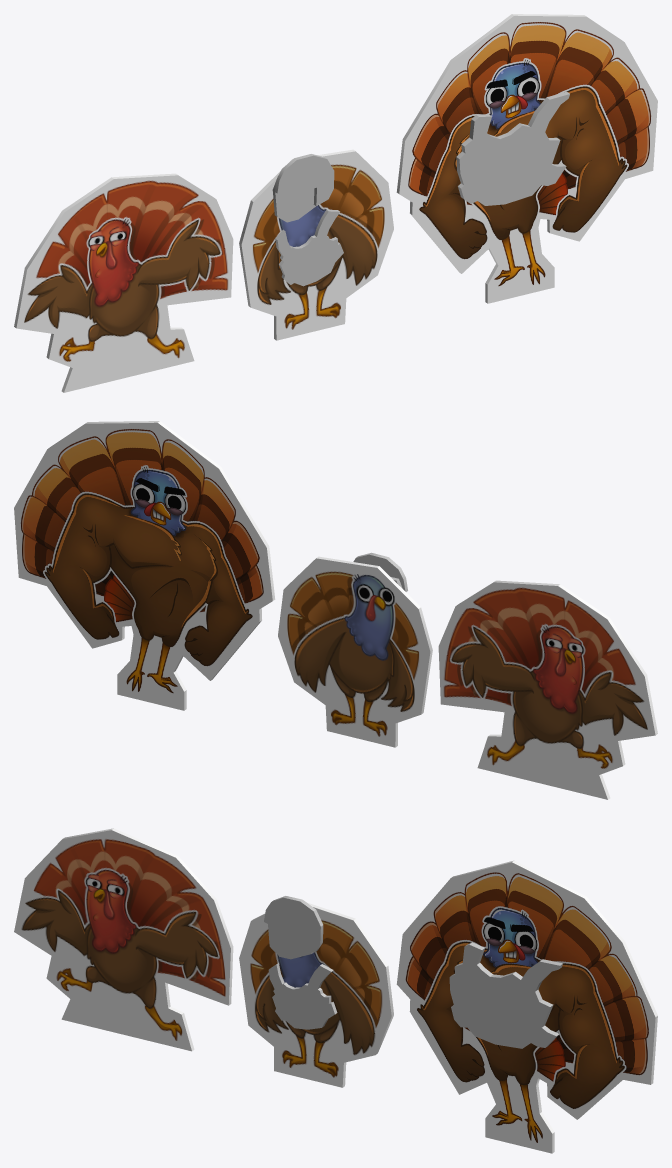
File: TurkeyCutouts_01.fbx
The picture shows the model from 3 angles, top to bottom: view 1: azimuth 30°, elevation 25°; view 2: azimuth 150°, elevation 25°; view 3: azimuth 330°, elevation 25°; orthographic projection.
Parts seen in each view (by area): view 1: AlphaTurkey_Cutout, Turkey02_Cutout, Turkey01_Cutout, AlphaChestShield, RegChestShield, Helmet, FaceShield; view 2: AlphaTurkey_Cutout, Turkey02_Cutout, Turkey01_Cutout, Helmet; view 3: AlphaTurkey_Cutout, Turkey02_Cutout, Turkey01_Cutout, AlphaChestShield, RegChestShield, Helmet, FaceShield.
Boxes of the visible parts, x1,y1,x2,y2 form: AlphaTurkey_Cutout: (396,14,657,303); Turkey02_Cutout: (14,173,233,392); Turkey01_Cutout: (239,149,393,340); AlphaChestShield: (456,91,569,205); RegChestShield: (275,209,343,286); Helmet: (275,154,334,206); FaceShield: (272,175,315,222); AlphaTurkey_Cutout: (14,421,275,710); Turkey02_Cutout: (438,580,657,799); Turkey01_Cutout: (278,556,432,747); Helmet: (353,552,407,591); AlphaTurkey_Cutout: (396,860,657,1153); Turkey02_Cutout: (14,828,233,1051); Turkey01_Cutout: (239,902,393,1087); AlphaChestShield: (449,942,563,1048); RegChestShield: (268,963,337,1029); Helmet: (264,896,323,953); FaceShield: (268,924,312,959).
Size of the model in its own units: 2881 by 1209 by 61.98.
